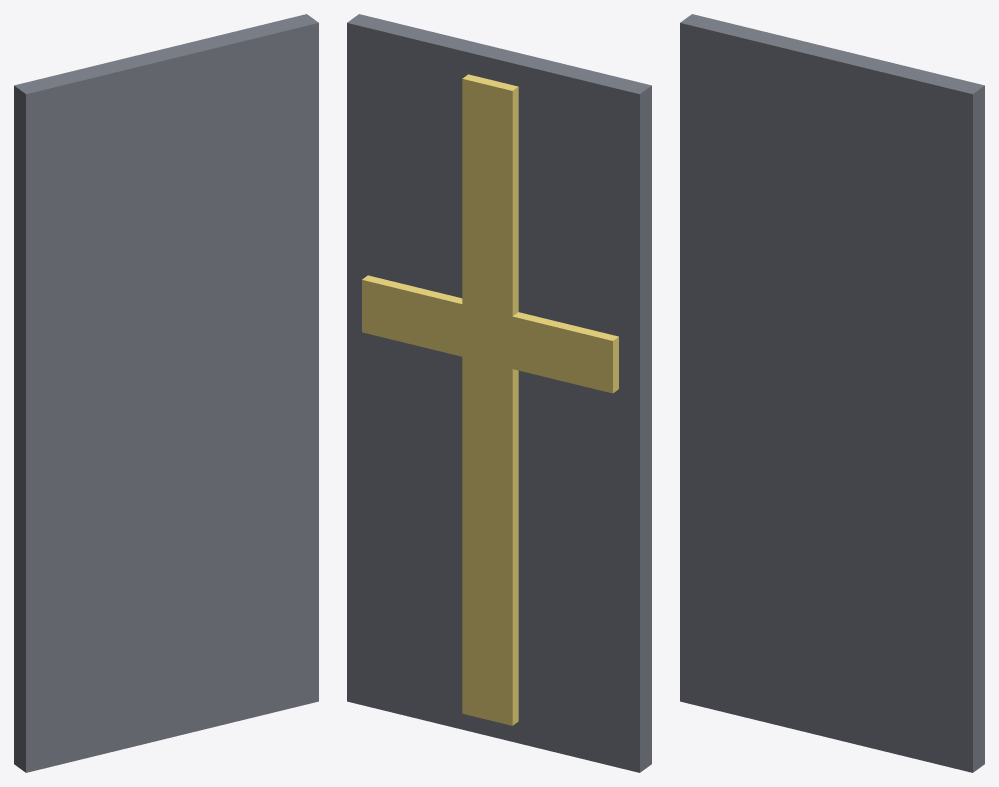
The model's file is tower_shield.glb.
3 renders of one model, left to right at view 1: azimuth 30°, elevation 25°; view 2: azimuth 150°, elevation 25°; view 3: azimuth 330°, elevation 25°, orthographic.
Visible parts, largest first — view 1: Cube; view 2: Cube, Cube.001, Cube.002; view 3: Cube.
Part boxes in pixels (x1,y1,x2,y2): Cube: [14, 14, 318, 772]; Cube: [347, 14, 651, 772]; Cube.001: [462, 74, 518, 725]; Cube.002: [362, 275, 618, 393]; Cube: [680, 14, 984, 772].
Size of the model in its own units: 0.7 by 1.55 by 0.075.
